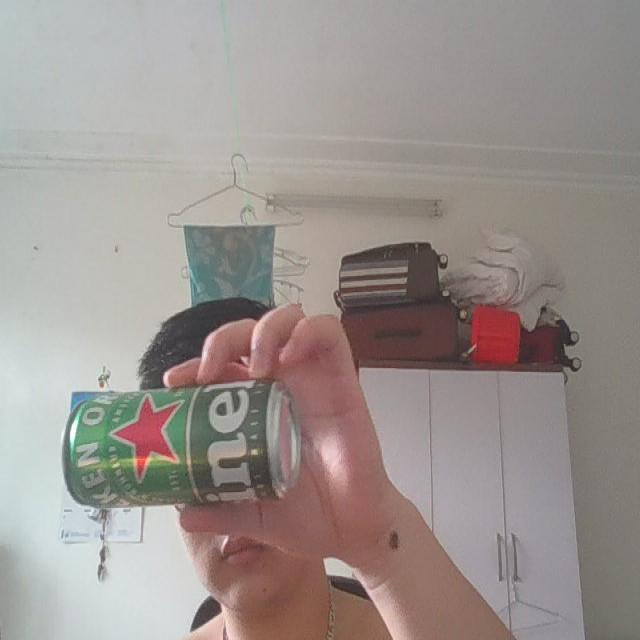Heineken: (62, 377, 292, 508)
